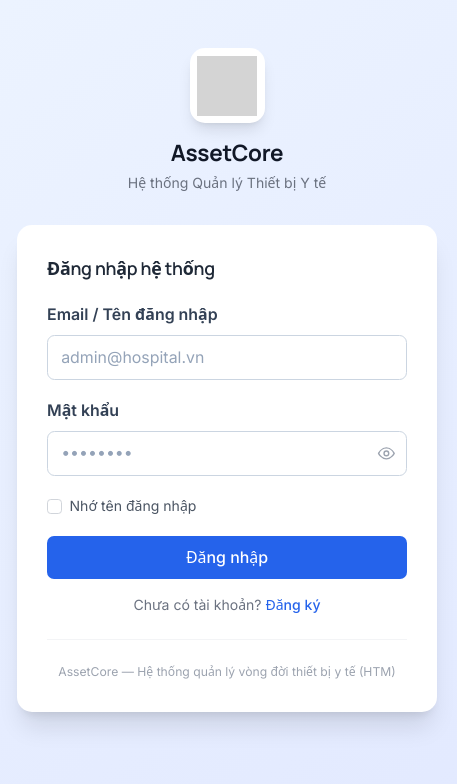
Test case: LoginView — regression guard surface reject reason (IMM-00) › LV-FE-01: thiếu password → validation banner, KHÔNG gọi auth.login()
The width and height of the screenshot is (457, 784).
Type "user@x.test" into the field with id "login-email" at (227,358), box [47, 335, 407, 380]
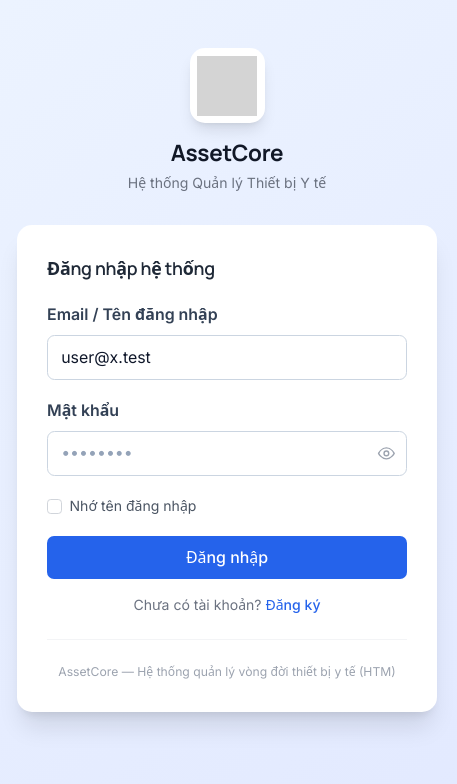
password để trống
Submit the form, box [47, 303, 407, 579]
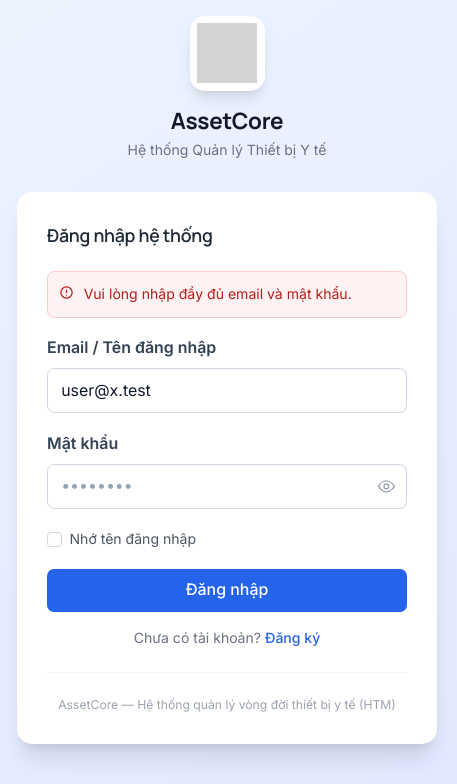
Expected: the text "Vui lòng nhập đầy đủ email và mật khẩu." is shown, [84, 283, 352, 305]
